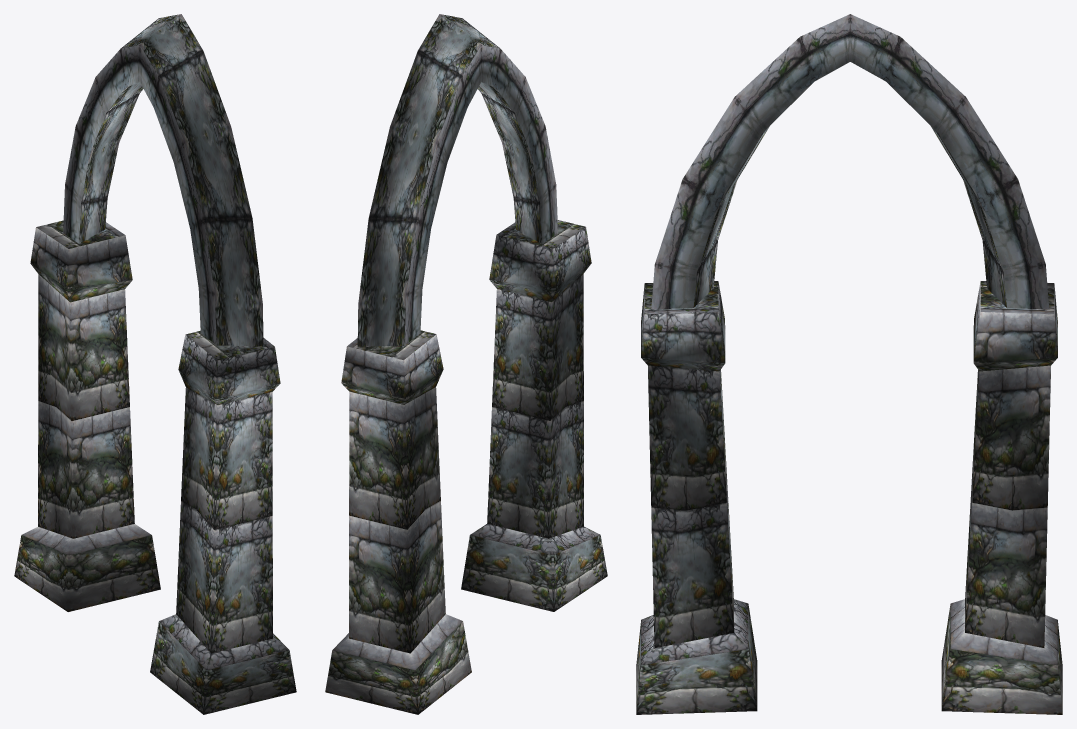
The model's file is gardenarch.obj.
3 renders of one model, left to right at view 1: azimuth 30°, elevation 25°; view 2: azimuth 150°, elevation 25°; view 3: azimuth 270°, elevation 25°, orthographic. The views are drawn at different scales.
Visible parts, largest first — view 1: GARDENARCH1, GARDENARCH0; view 2: GARDENARCH1, GARDENARCH0; view 3: GARDENARCH1, GARDENARCH0.
Part boxes in pixels (x1,y1,x2,y2): GARDENARCH1: (63,14,296,714); GARDENARCH0: (14,220,160,611); GARDENARCH1: (357,14,607,611); GARDENARCH0: (325,330,471,714); GARDENARCH1: (636,14,1049,714); GARDENARCH0: (941,281,1062,714).
Size of the model in its own units: 1.84 by 11.59 by 6.49.
2 materials, 2 textured.
